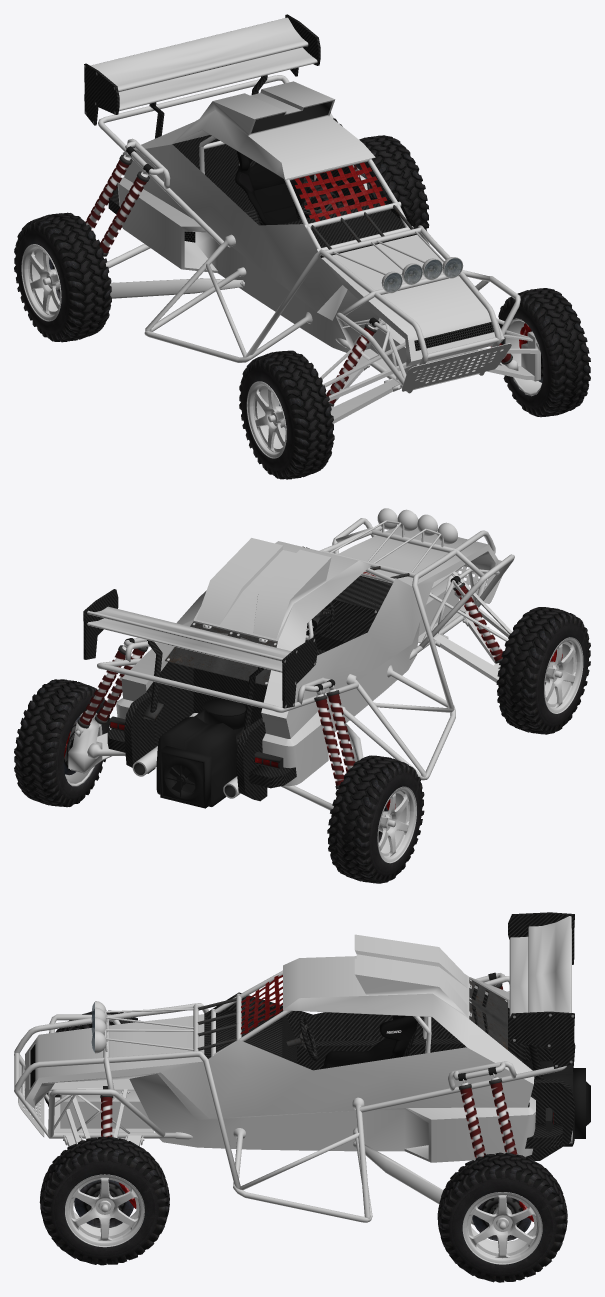
3 renders of one model, top to bottom at view 1: azimuth 30°, elevation 25°; view 2: azimuth 150°, elevation 25°; view 3: azimuth 270°, elevation 25°, orthographic. The views are drawn at different scales.
Parts seen in each view (by area): view 1: Body_0_000_Body_0_001, Wheels_0_009, Frame_0_003, UnderbodyFrame_UnderbodyFrame_0_000, Carbon_0_000, ChromeDirty_0_000, Board_0_017, Net_Plane, Springs_Springs_0_004, Lights_VehicleRearLights_0_000, Glass_Glass_0_011, BlackPlastic_0_000 (+2 smaller); view 2: Body_0_000_Body_0_001, Wheels_0_009, Carbon_0_000, Frame_0_003, Engine_0_001, UnderbodyFrame_UnderbodyFrame_0_000, Springs_Springs_0_004, DarkSteel_0_000, ChromeDirty_0_000, Lights_VehicleRearLights_0_000; view 3: Body_0_000_Body_0_001, Wheels_0_009, Carbon_0_000, Frame_0_003, UnderbodyFrame_UnderbodyFrame_0_000, DarkSteel_0_000, ChromeDirty_0_000, Board_0_017, Engine_0_001, Springs_Springs_0_004, Net_Plane.
Boxes of the visible parts, box(x1,y1,x2,y2) form: Body_0_000_Body_0_001: box(90, 17, 504, 366); Wheels_0_009: box(14, 135, 590, 479); Frame_0_003: box(98, 75, 520, 393); UnderbodyFrame_UnderbodyFrame_0_000: box(105, 174, 540, 423); Carbon_0_000: box(84, 14, 416, 257); ChromeDirty_0_000: box(86, 136, 511, 394); Board_0_017: box(235, 151, 315, 225); Net_Plane: box(294, 162, 387, 221); Springs_Springs_0_004: box(85, 160, 510, 404); Lights_VehicleRearLights_0_000: box(112, 183, 462, 292); Glass_Glass_0_011: box(383, 258, 462, 292); BlackPlastic_0_000: box(126, 101, 379, 327); Body_0_000_Body_0_001: box(87, 508, 498, 786); Wheels_0_009: box(14, 546, 590, 883); Carbon_0_000: box(83, 575, 392, 801); Frame_0_003: box(97, 514, 514, 780); Engine_0_001: box(156, 699, 258, 808); UnderbodyFrame_UnderbodyFrame_0_000: box(68, 560, 512, 810); Springs_Springs_0_004: box(79, 585, 502, 785); DarkSteel_0_000: box(77, 566, 502, 789); ChromeDirty_0_000: box(74, 568, 500, 798); Lights_VehicleRearLights_0_000: box(109, 716, 283, 769); Body_0_000_Body_0_001: box(25, 916, 571, 1162); Wheels_0_009: box(39, 1010, 567, 1282); Carbon_0_000: box(204, 912, 575, 1160); Frame_0_003: box(14, 973, 566, 1222); UnderbodyFrame_UnderbodyFrame_0_000: box(18, 1063, 474, 1225); DarkSteel_0_000: box(100, 978, 549, 1098); ChromeDirty_0_000: box(103, 970, 572, 1157); Board_0_017: box(322, 1015, 417, 1068); Engine_0_001: box(523, 1060, 590, 1146); Springs_Springs_0_004: box(101, 985, 517, 1157); Net_Plane: box(240, 975, 282, 1034).
Size of the model in its own units: 288 by 184 by 395.
